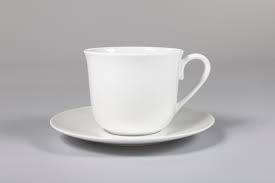cup: (44, 41, 219, 153)
